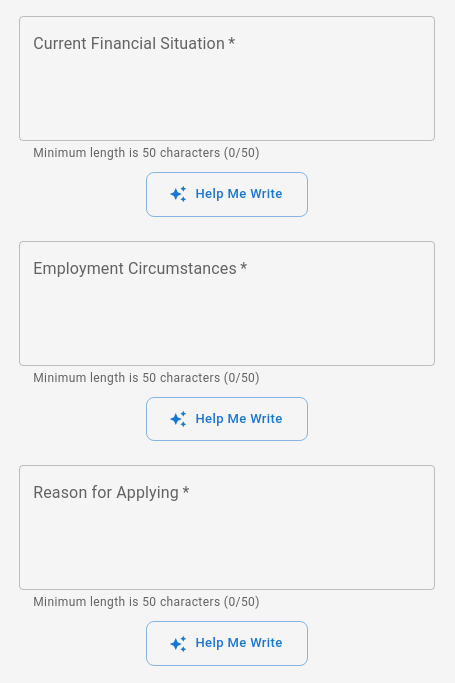
Test: Step3SituationDescriptions › Form Field Interactions › should update employmentCircumstances field on change
This screenshot has width=455, height=683.
Click the text box labelled "Employment Circumstances".
click(227, 303)  # box [33,257,421,349]
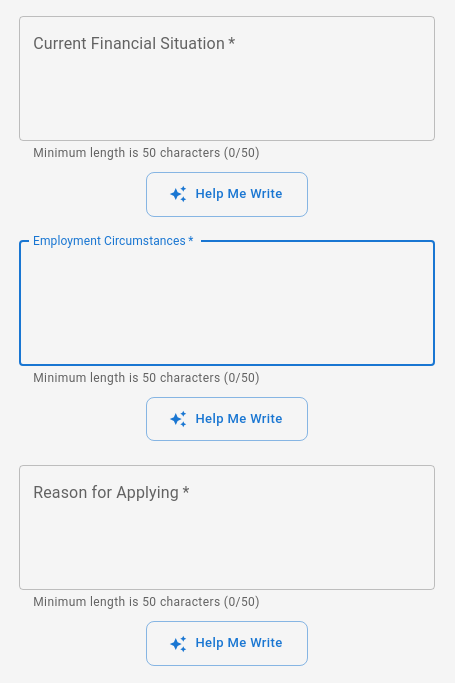
Type keys "Test employment circumstances"
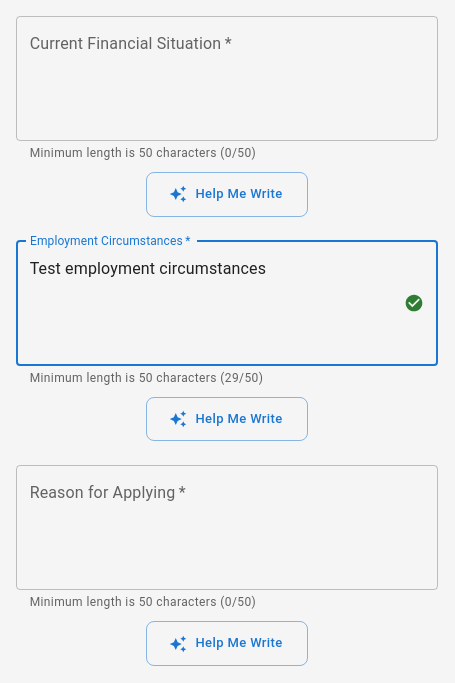
Result: the text box labelled "Employment Circumstances" holds "Test employment circumstances" at [30,257,396,349]
